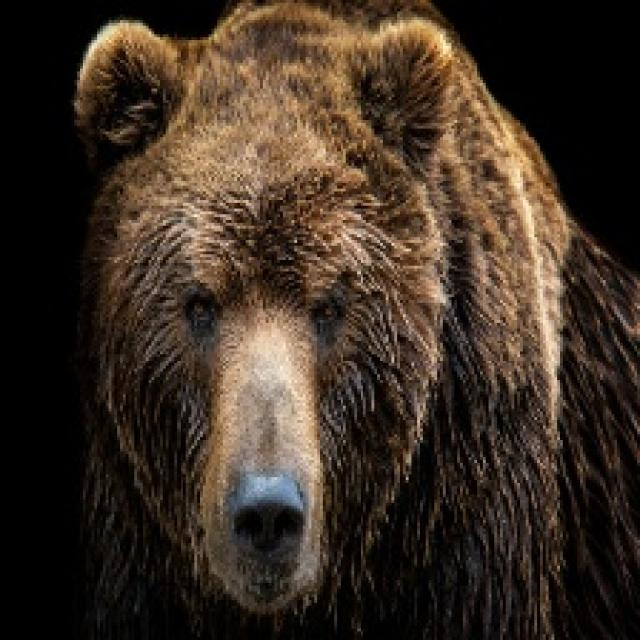bear: (58, 7, 592, 627)
